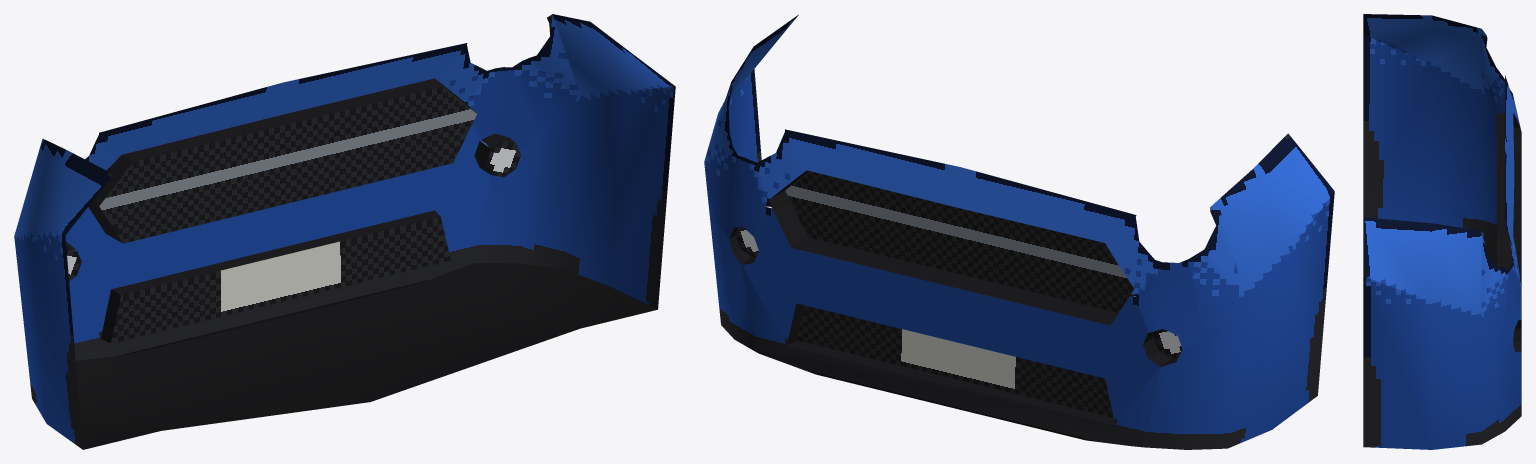
File: bumper_F_lip.glb
3 views of the same model, side by side, from view 1: azimuth 30°, elevation 25°; view 2: azimuth 150°, elevation 25°; view 3: azimuth 270°, elevation 25° (orthographic). The views are drawn at different scales.
Parts seen in each view (by area): view 1: bumper_F_lip; view 2: bumper_F_lip; view 3: bumper_F_lip.
Boxes of the visible parts, left/top/right/bottom form: bumper_F_lip: left=14, top=14, right=675, bottom=449; bumper_F_lip: left=704, top=14, right=1334, bottom=449; bumper_F_lip: left=1363, top=14, right=1521, bottom=449.
Size of the model in its own units: 1.72 by 0.7854 by 0.4765.
1 material, 1 textured.
